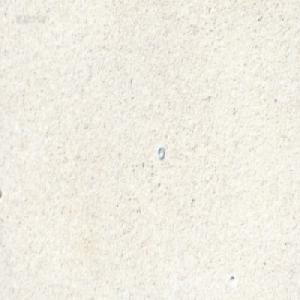Washer: (156, 145, 164, 160)
